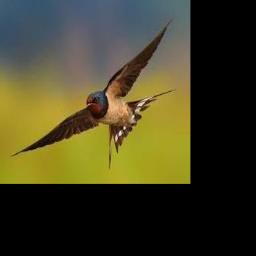Swallow: (11, 15, 176, 168)
